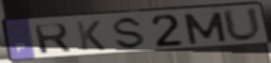2: (150, 13, 186, 49)
K: (74, 19, 108, 52)
M: (181, 11, 230, 46)
R: (31, 22, 74, 55)
S: (112, 15, 147, 51)
U: (220, 6, 265, 44)
